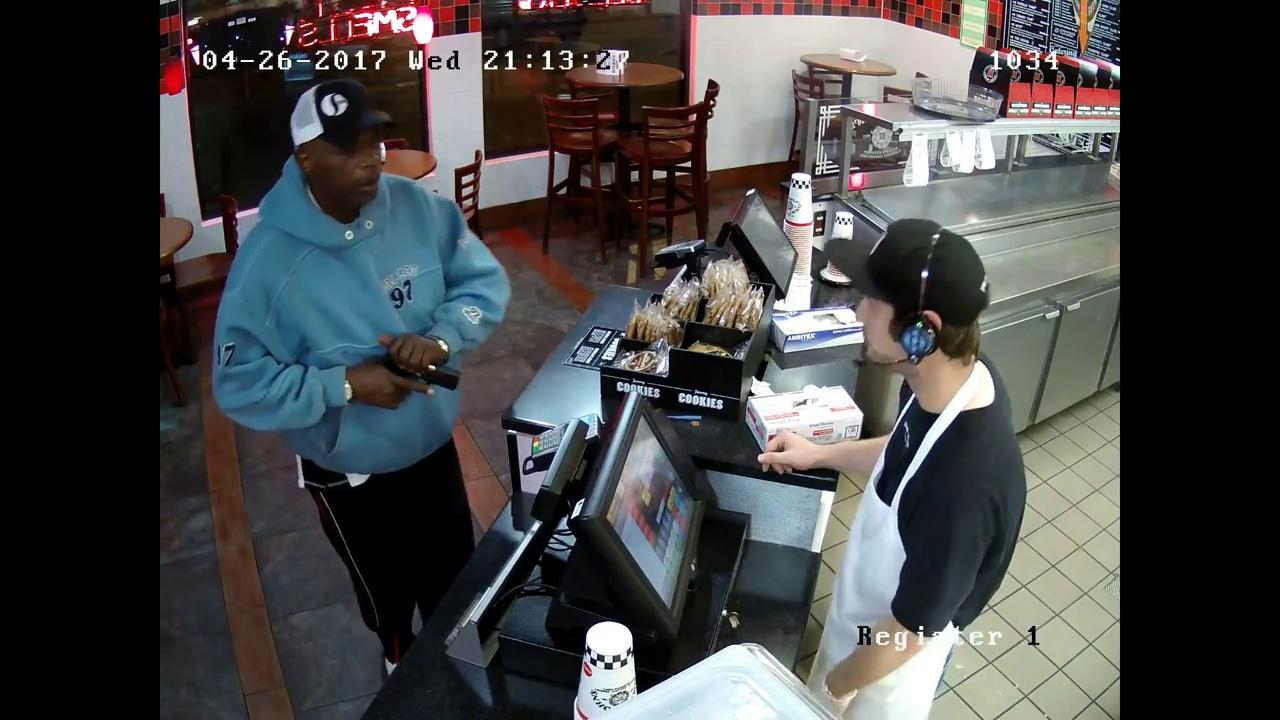Guns: (348, 342, 476, 404)
